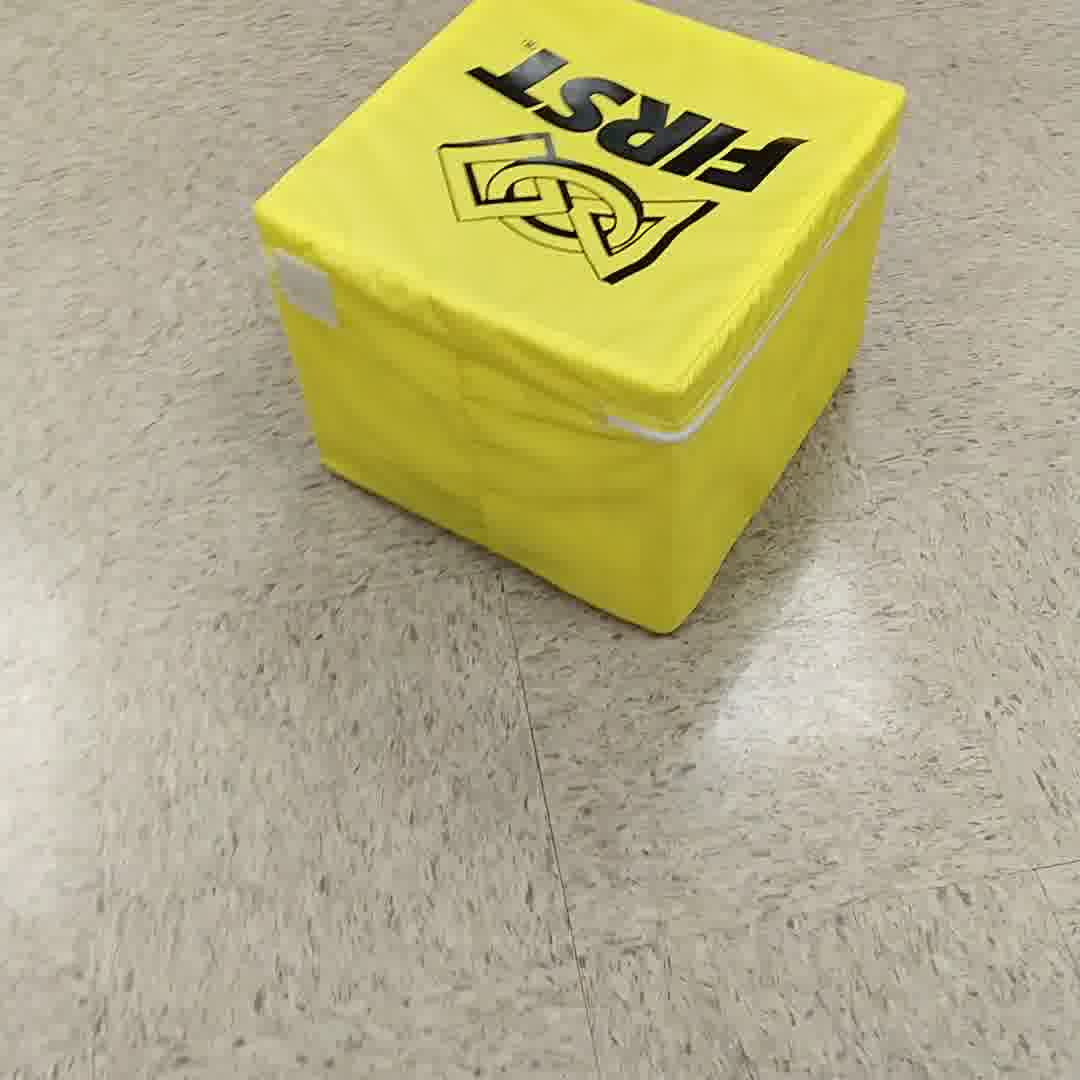box: (239, 7, 917, 660)
